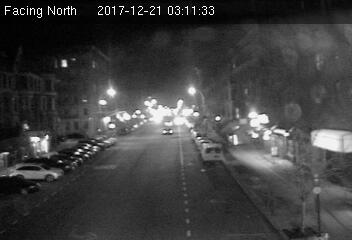car: (161, 127, 174, 135)
truck: (202, 142, 221, 162)
